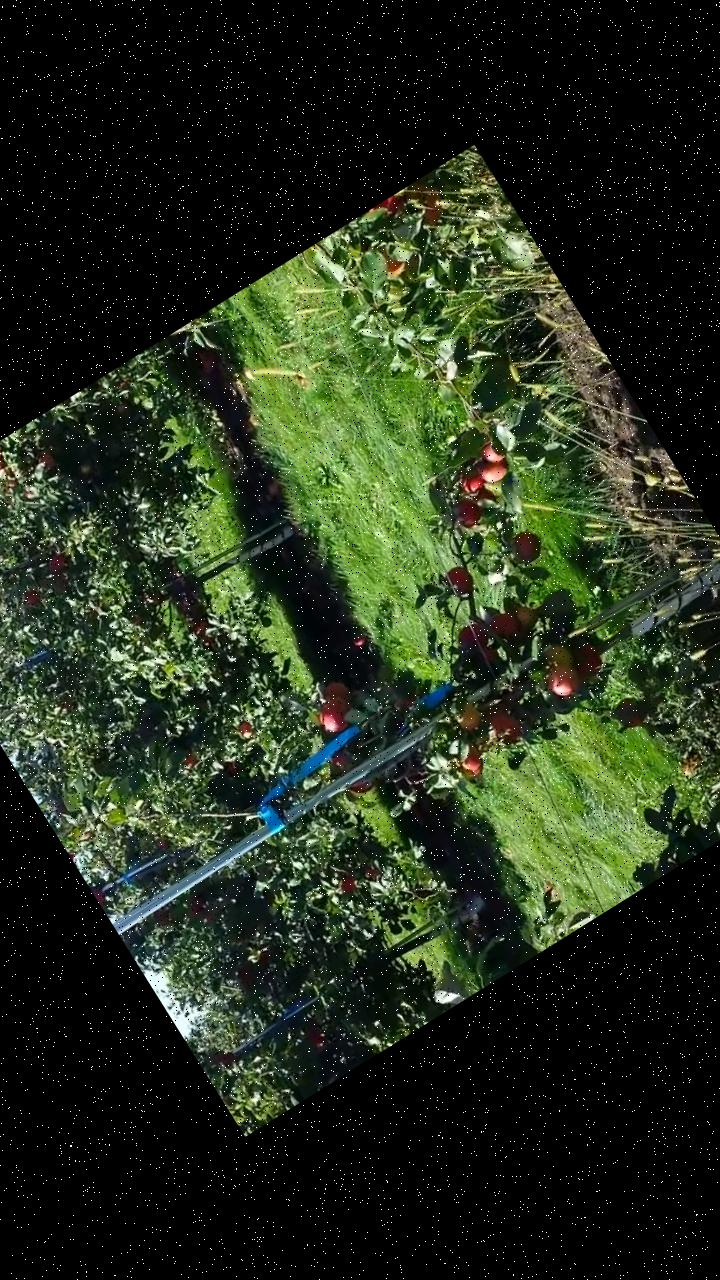Apple: (400, 175, 452, 234), (537, 656, 586, 705), (312, 693, 358, 739), (369, 237, 411, 284), (484, 704, 526, 749), (316, 674, 357, 716), (470, 447, 512, 488), (451, 618, 494, 658), (534, 635, 576, 675), (482, 606, 522, 647), (507, 526, 545, 566), (568, 640, 606, 679), (367, 192, 408, 228), (440, 560, 476, 600), (448, 493, 485, 531), (450, 700, 488, 735), (612, 695, 644, 733), (473, 436, 505, 469), (509, 602, 540, 634), (454, 742, 484, 772), (458, 468, 486, 496), (391, 688, 419, 714), (469, 484, 496, 509), (348, 774, 374, 799), (473, 642, 497, 666), (463, 756, 488, 779), (330, 750, 352, 771)
